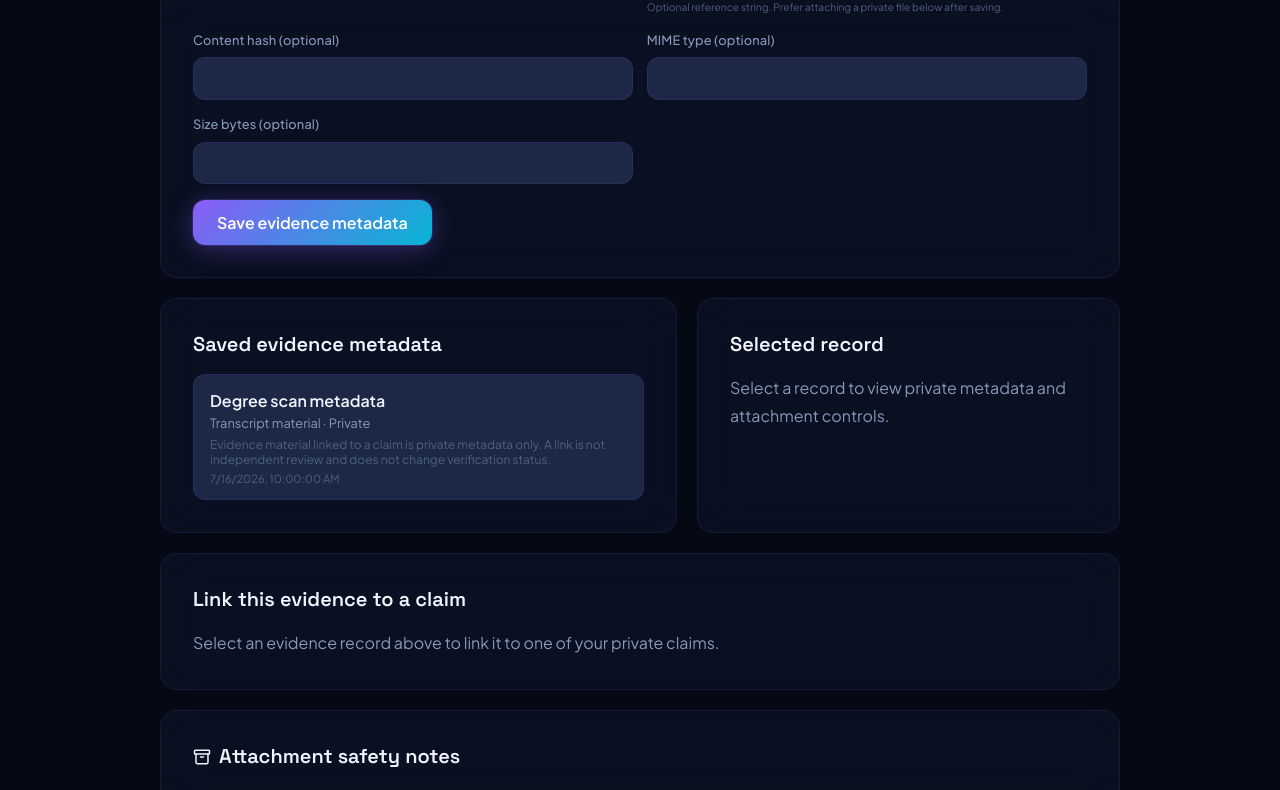
EvidenceLibraryPage F6/F7 boundary › shows friendly duplicate link error
(page scrolled)
Click the text "Degree scan metadata" at (298, 400), box [210,390,385,411]
(page scrolled)
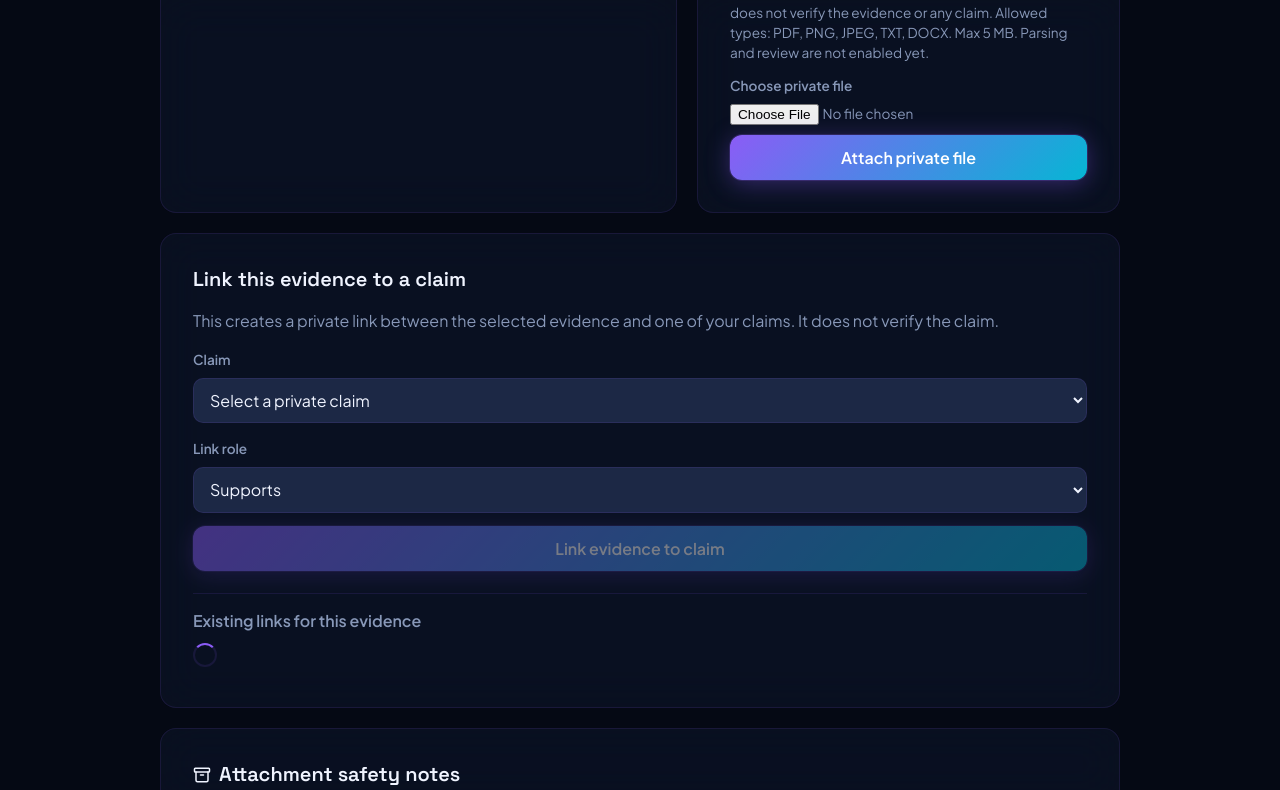
Select "skill: Python · Not supported yet · Not independently verified" in the dropdown named "Claim to link" at (640, 400), box [193,378,1087,423]
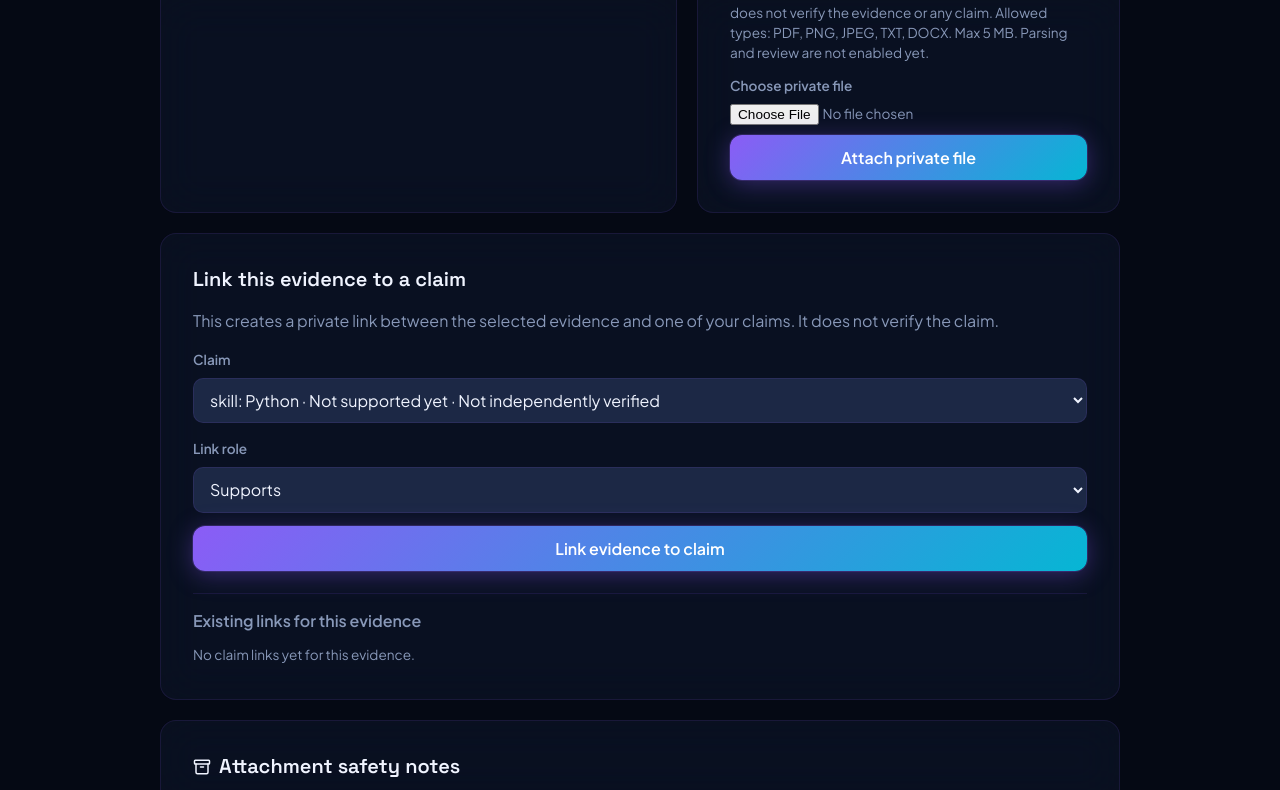
Click the button "Link evidence to claim" at (640, 549), box [193,526,1087,571]
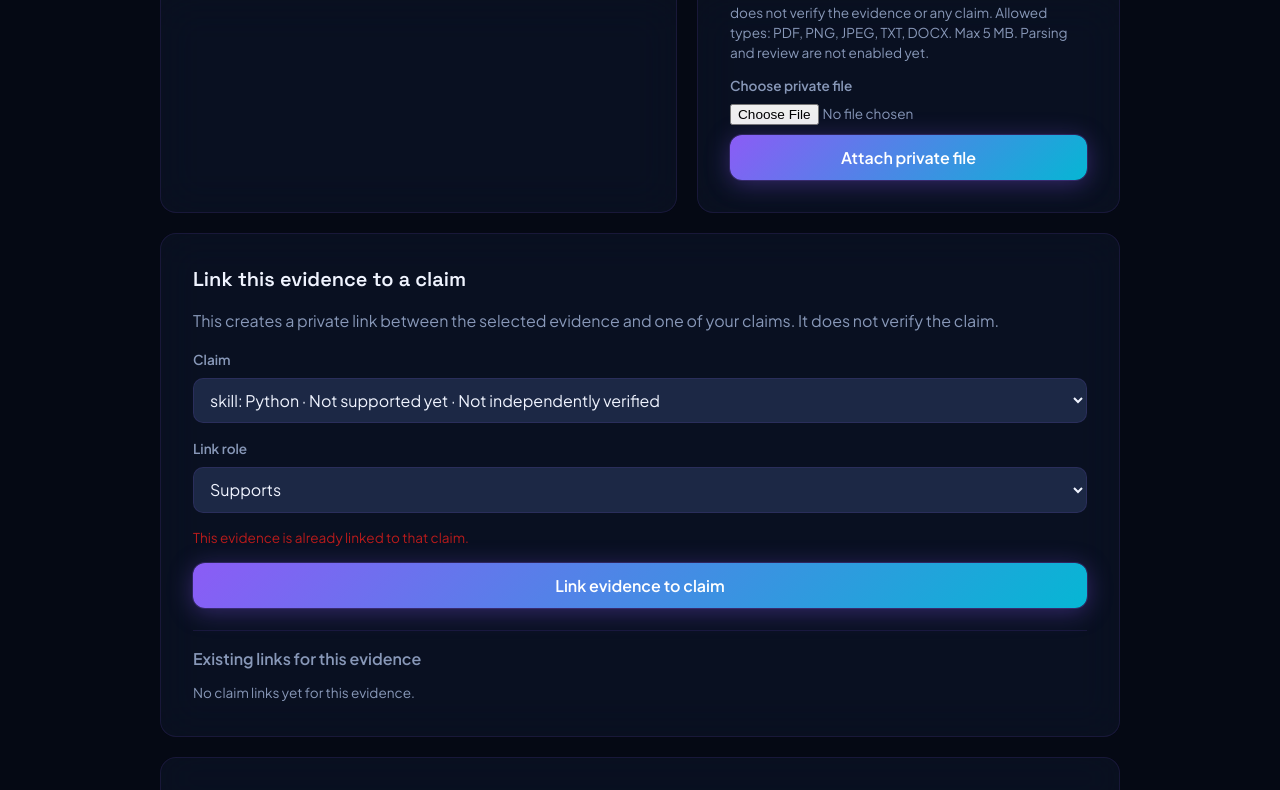
Expected: the text "This evidence is already linked to that claim." is shown, [193,529,469,546]
